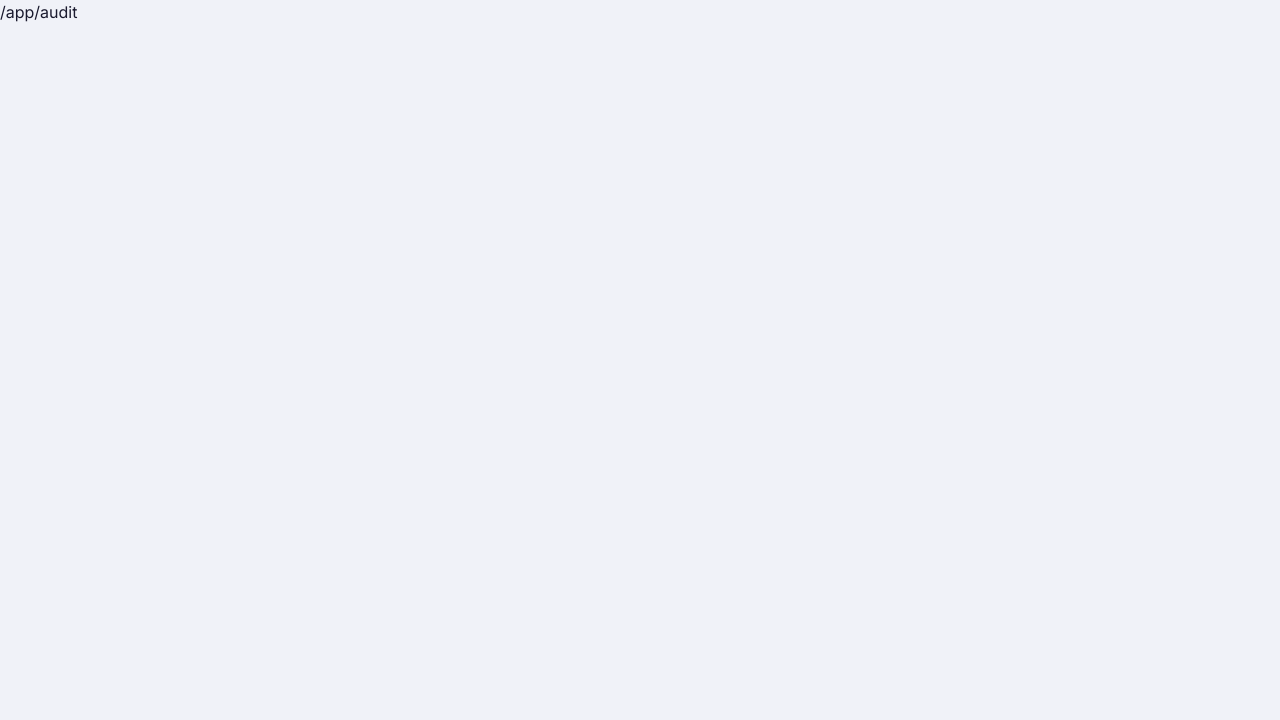
Test: CommandPalette interactions › filters the command list as the query is typed
Press k
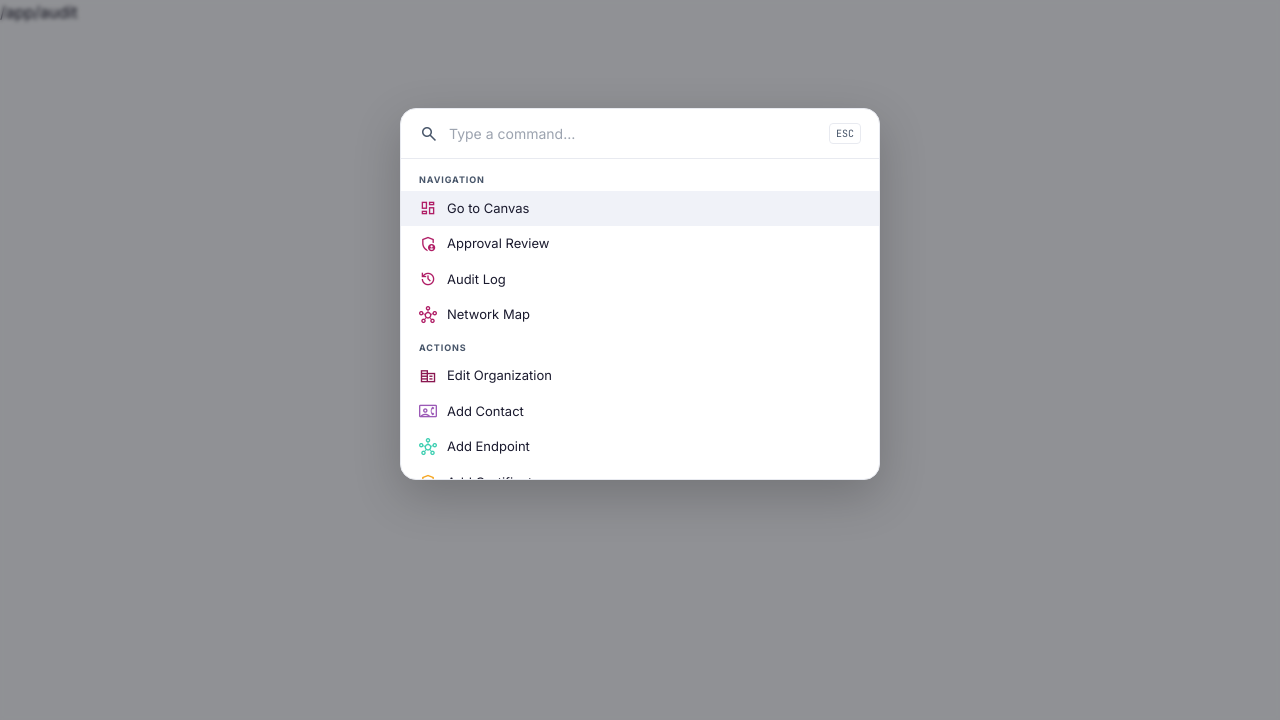
Type "contact" into the field with placeholder "Type a command…".
click(634, 134); type("contact")  # box [449,123,819,144]
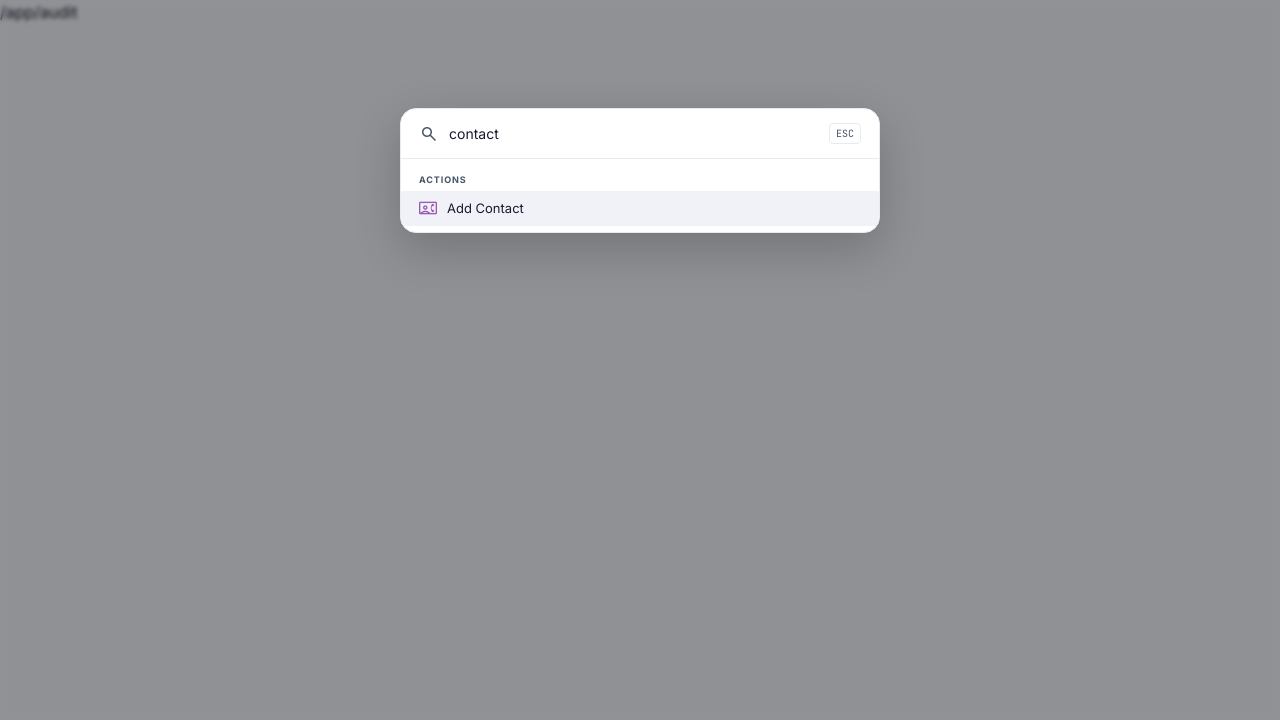
expect the text "Add Contact" is shown: met, box [447,198,524,218]
expect the button "Go to Canvas" is gone: met
expect the button "Edit Organization" is gone: met
